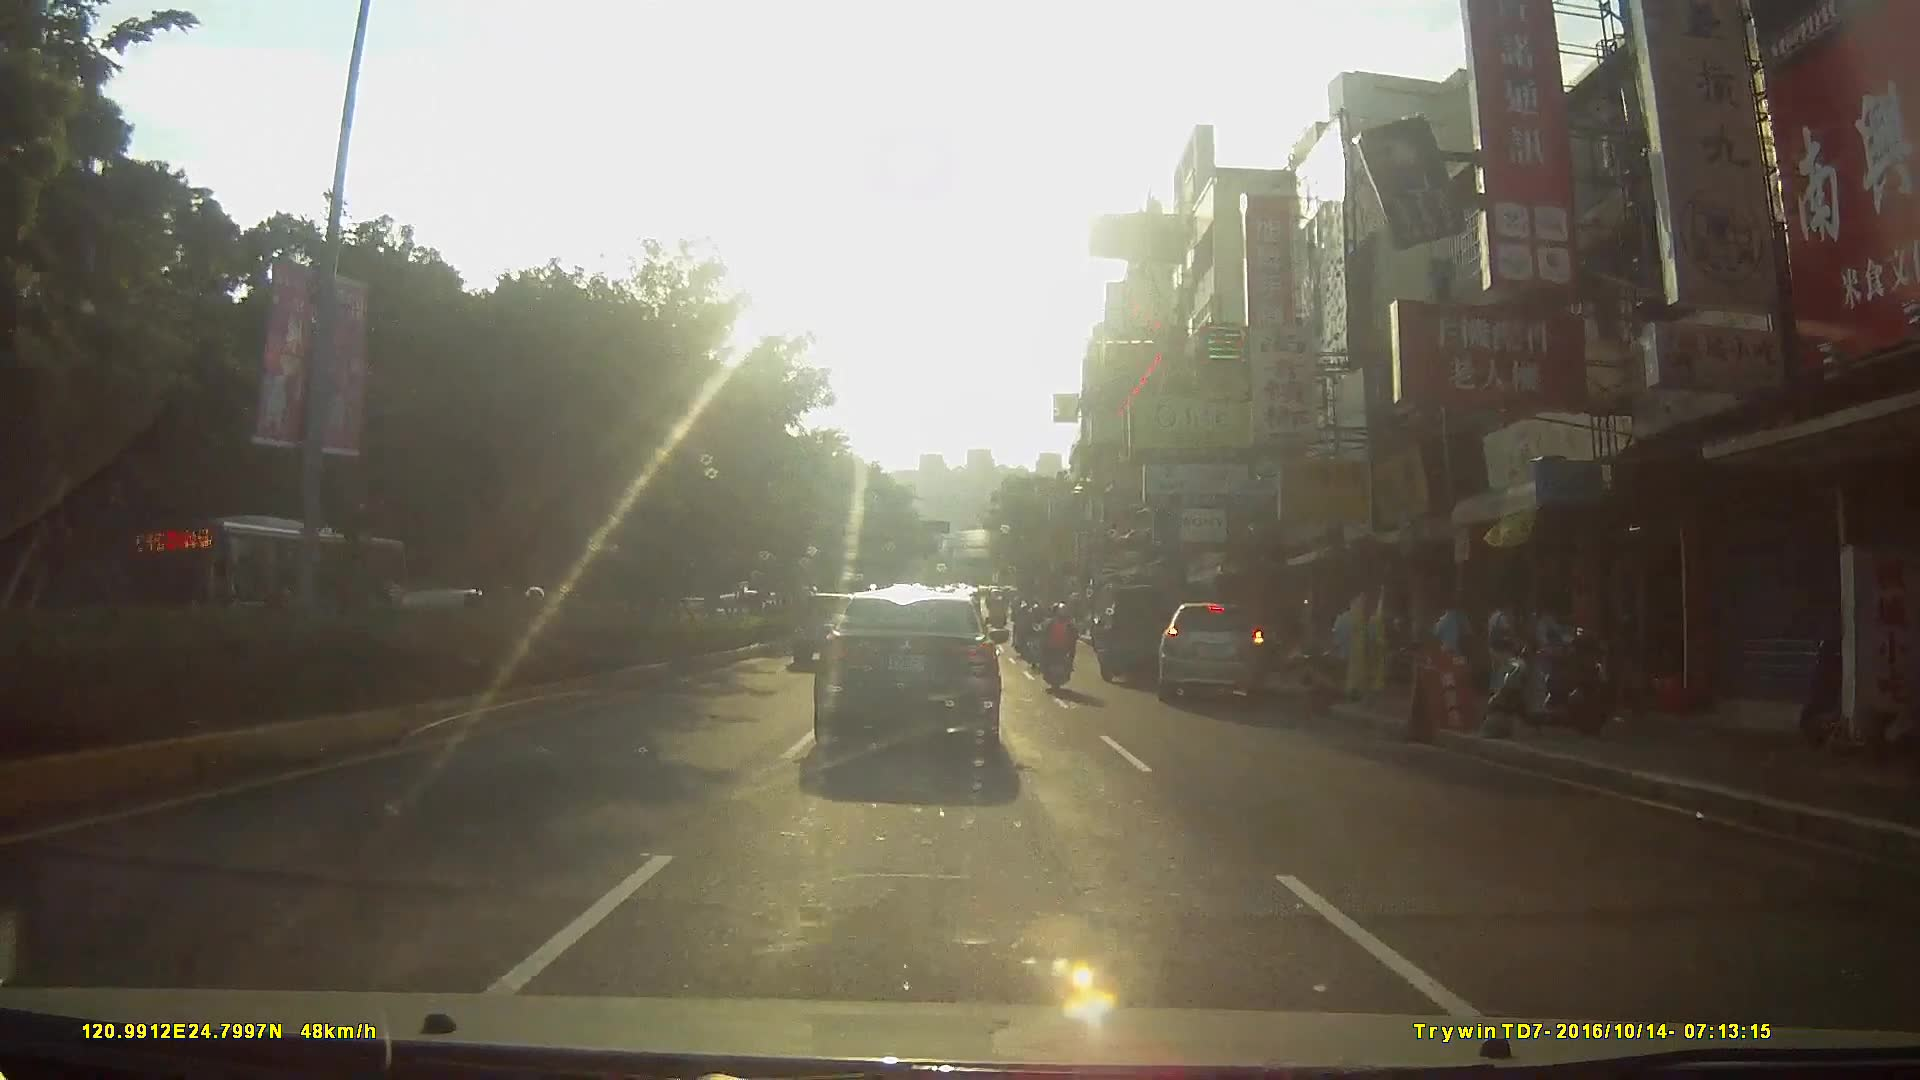pedestrian: (1430, 598, 1471, 693), (1531, 589, 1562, 687), (1488, 591, 1513, 692)
rider: (1037, 595, 1081, 693), (1021, 599, 1046, 666)
vehicle: (138, 513, 407, 667), (816, 590, 1030, 770), (1153, 594, 1288, 707), (1094, 577, 1198, 689)
